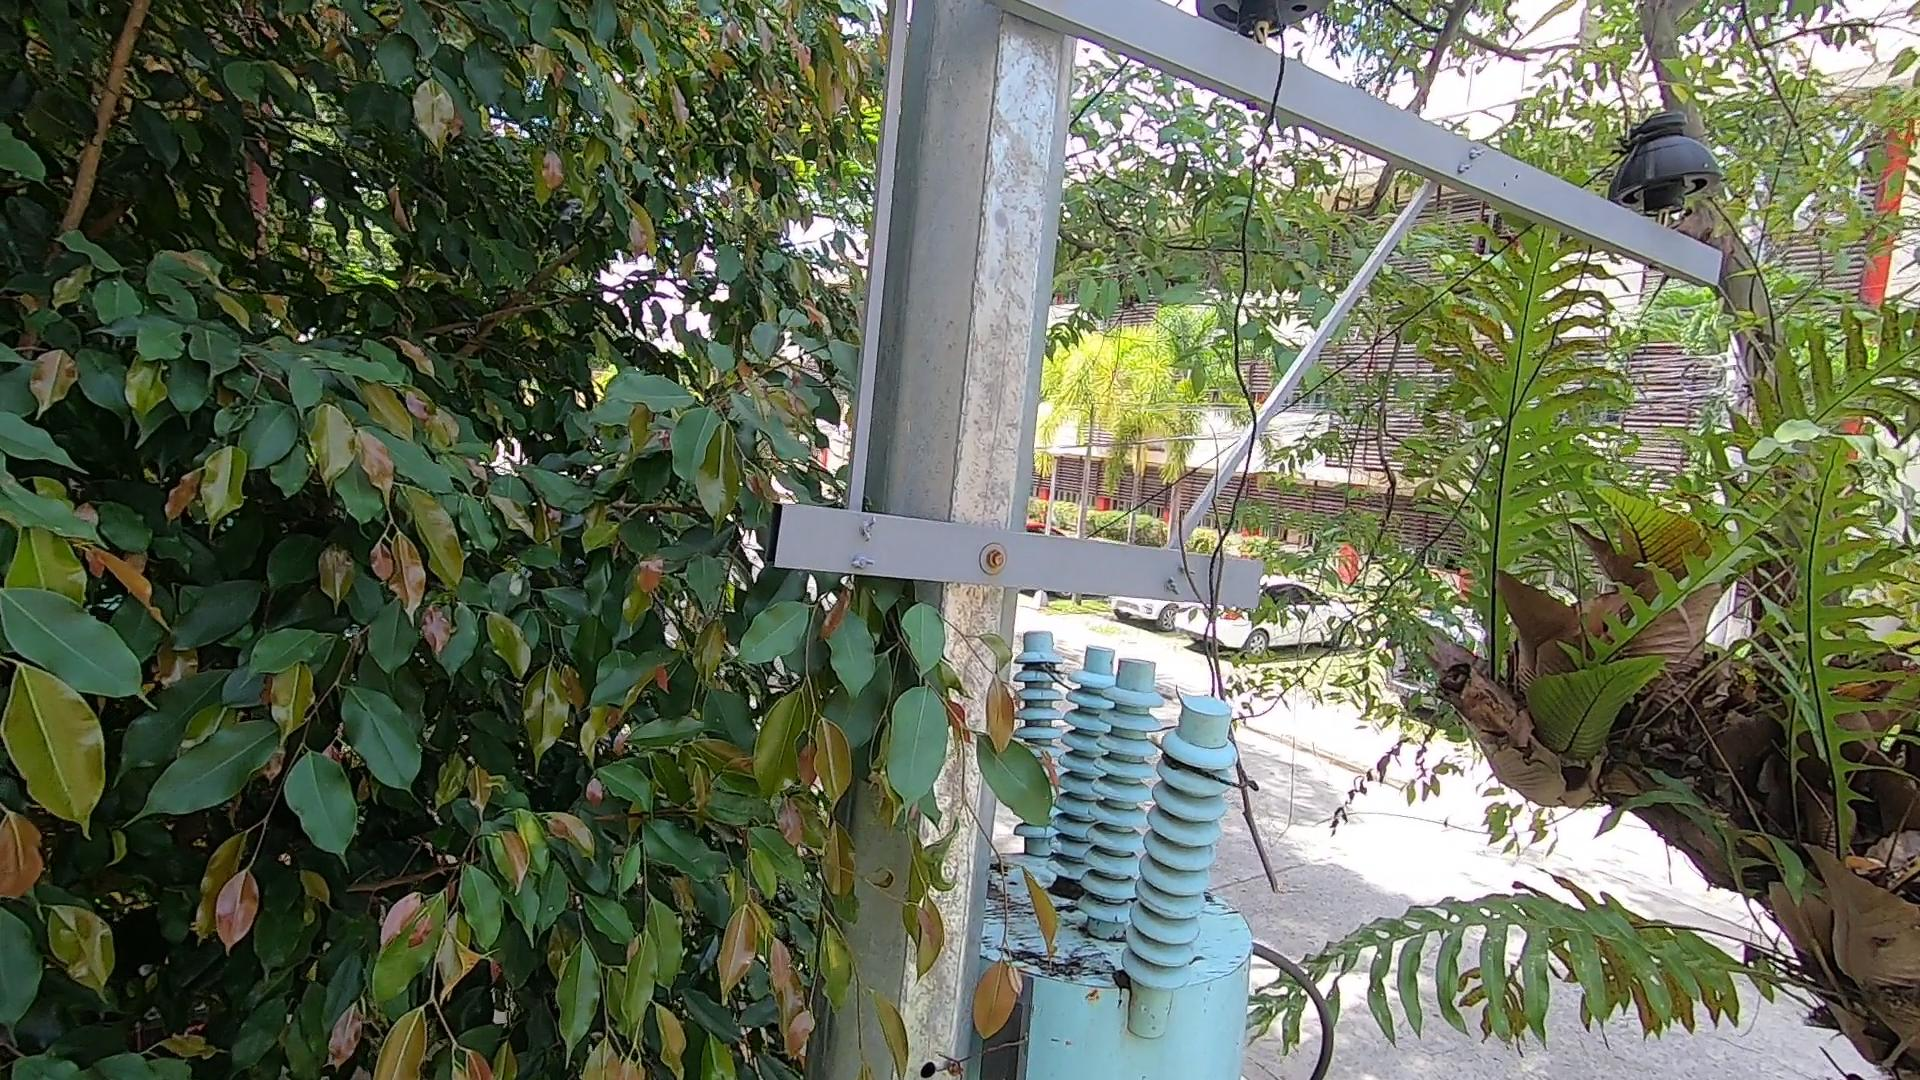tree branch: (1153, 407, 1309, 893)
